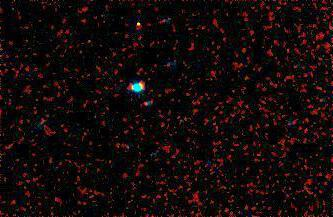star: (123, 9, 153, 39)
